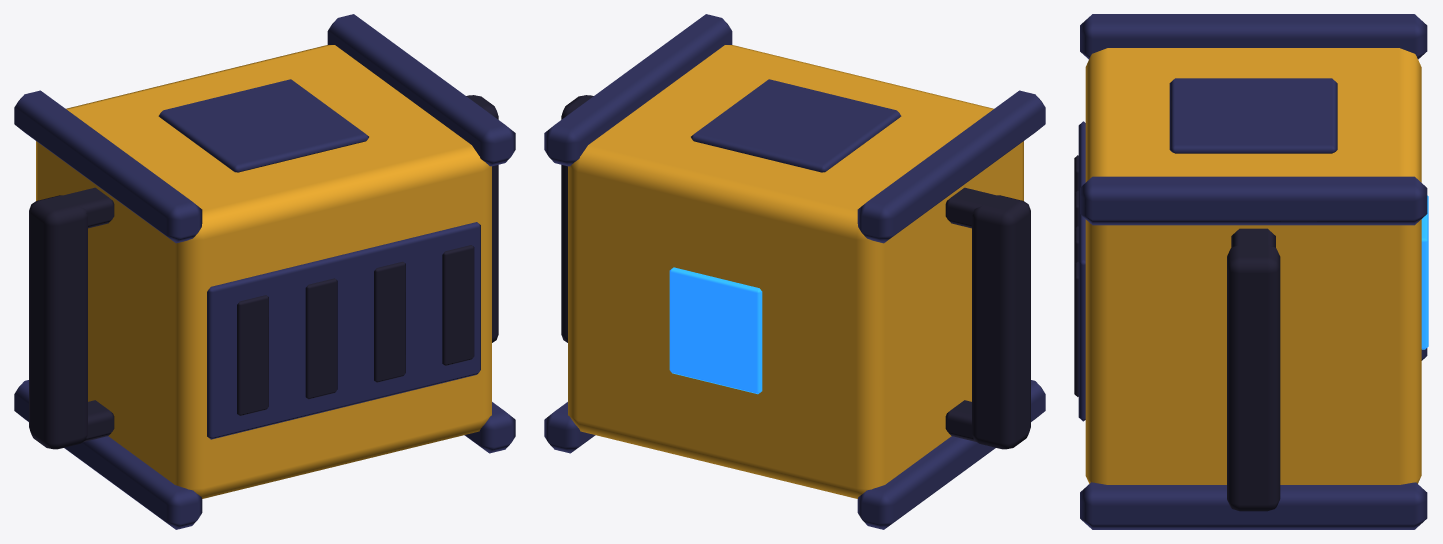
Rendered from cargo_box.glb.
3 views of the same model, side by side, from view 1: azimuth 30°, elevation 25°; view 2: azimuth 150°, elevation 25°; view 3: azimuth 270°, elevation 25° (orthographic). The views are drawn at different scales.
Parts seen in each view (by area): view 1: item.cargo_box.body; view 2: item.cargo_box.body; view 3: item.cargo_box.body.
Boxes of the visible parts, <box> form: item.cargo_box.body: <box>14,14,515,529</box>; item.cargo_box.body: <box>544,14,1045,529</box>; item.cargo_box.body: <box>1074,14,1428,529</box>.
Size of the model in its own units: 0.6219 by 0.425 by 0.3953.
